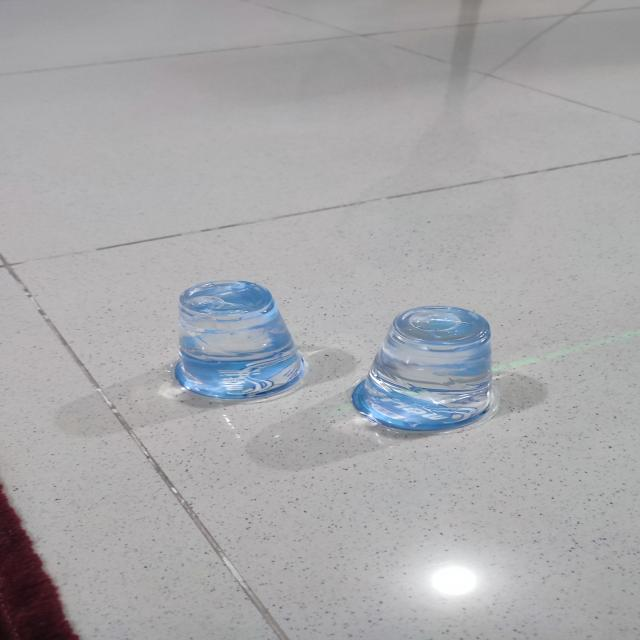air gelas: (355, 290, 505, 432), (169, 280, 311, 406)
